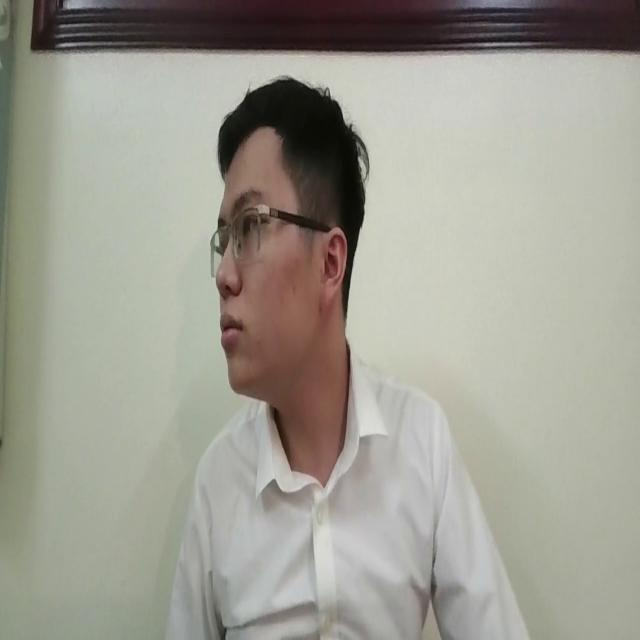student: (165, 72, 537, 640)
